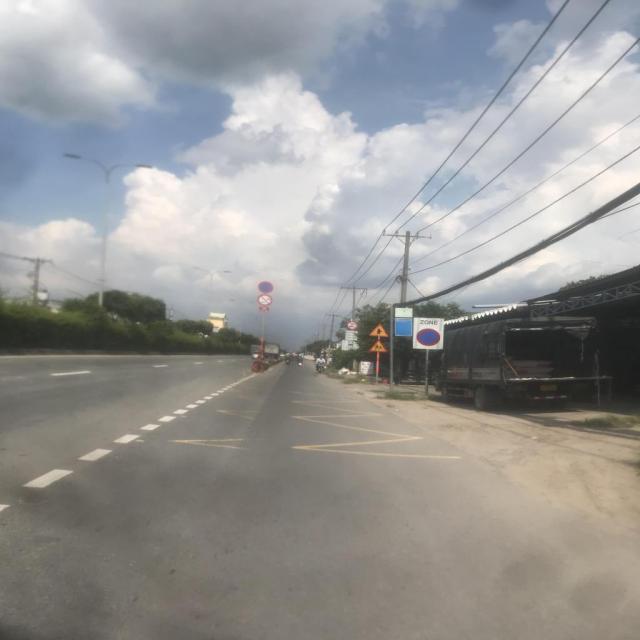cam_do_xe: (416, 329, 440, 346)
cam_dung_xe_va_do_xe: (258, 282, 274, 294)
cam_o_to_tai_va_xe_khach: (346, 320, 358, 330)
cam_xe_2_banh_va_xe_3_banh_co_dong_co: (257, 294, 273, 306)
chu_y_tre_em: (368, 339, 388, 353)
giao_nhau_voi_duong_khong_uu_tien: (369, 323, 389, 337)
khac: (342, 340, 359, 351), (345, 331, 358, 341)
